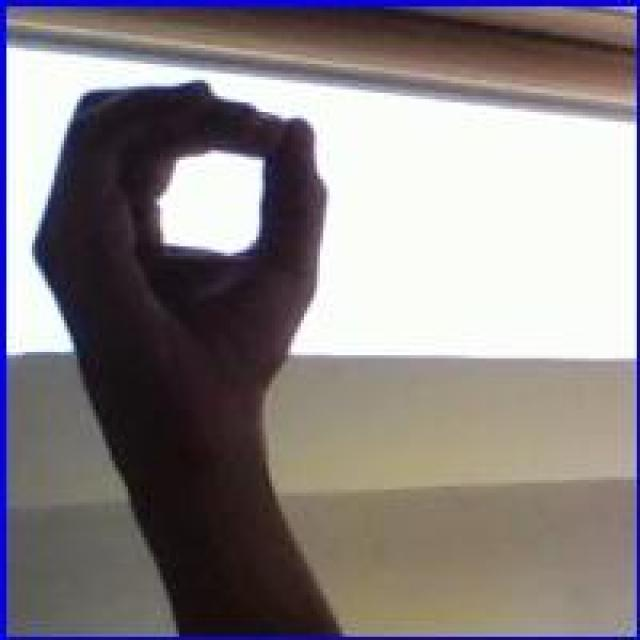O: (29, 76, 326, 447)
